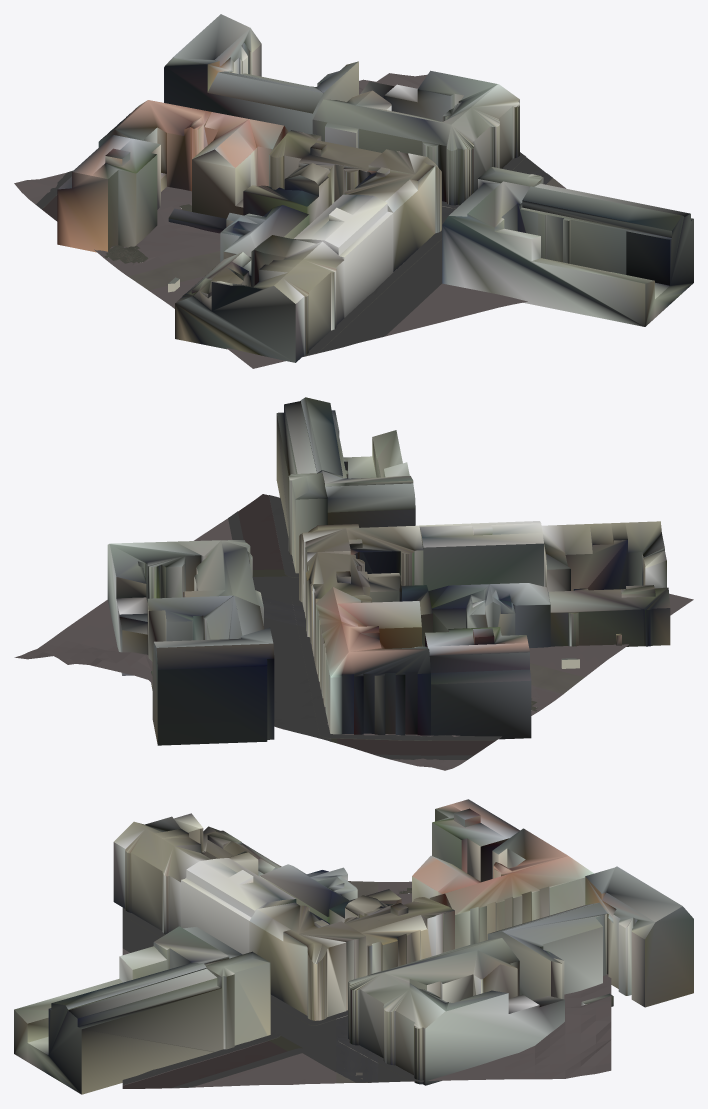
3 views of the same model, one above another, from view 1: azimuth 30°, elevation 25°; view 2: azimuth 150°, elevation 25°; view 3: azimuth 270°, elevation 25° (orthographic). The views are drawn at different scales.
Parts seen in each view (by area): view 1: c_m08_p03; view 2: c_m08_p03; view 3: c_m08_p03.
Boxes of the visible parts, left/top/right/bottom form: c_m08_p03: left=14, top=14, right=693, bottom=368; c_m08_p03: left=14, top=397, right=693, bottom=770; c_m08_p03: left=14, top=799, right=693, bottom=1094.
Size of the model in its own units: 139 by 30.02 by 178.
